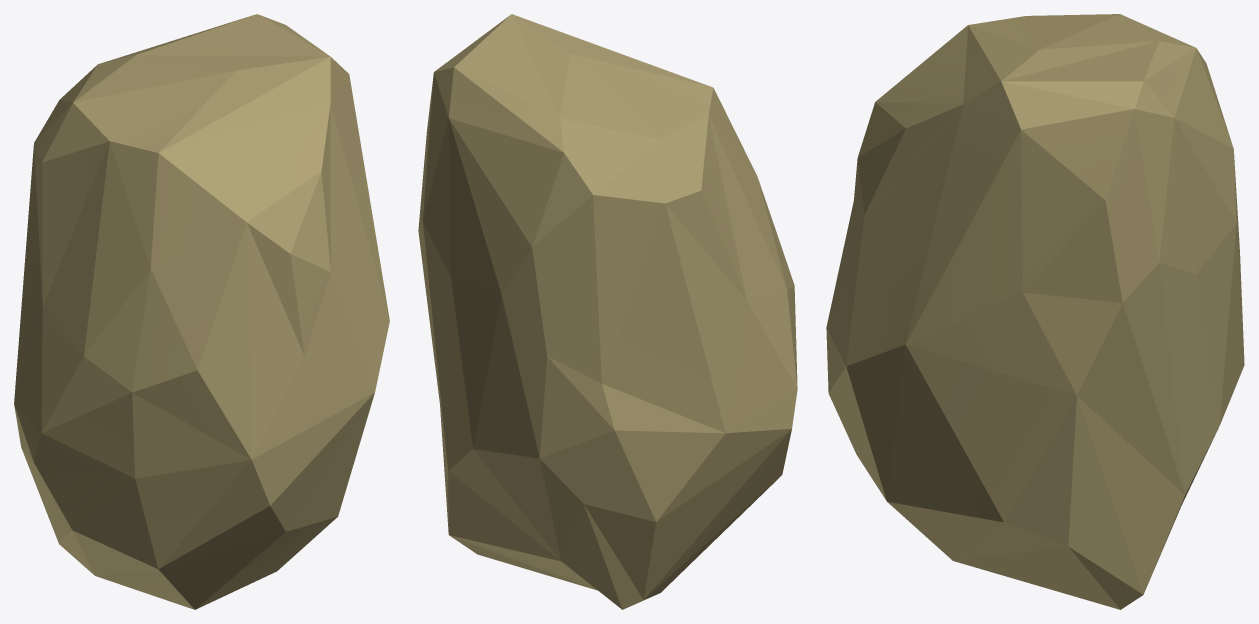
The model's file is SM_small_rock_30.fbx.
3 views of the same model, side by side, from view 1: azimuth 30°, elevation 25°; view 2: azimuth 150°, elevation 25°; view 3: azimuth 270°, elevation 25° (orthographic). The views are drawn at different scales.
Visible parts, largest first — view 1: small_rock_30; view 2: small_rock_30; view 3: small_rock_30.
Boxes of the visible parts, x1,y1,x2,y2 form: small_rock_30: (14,14,389,609); small_rock_30: (418,14,797,609); small_rock_30: (826,14,1244,609).
Bounding box in the file's own units: 79.39 × 117 × 79.52.
